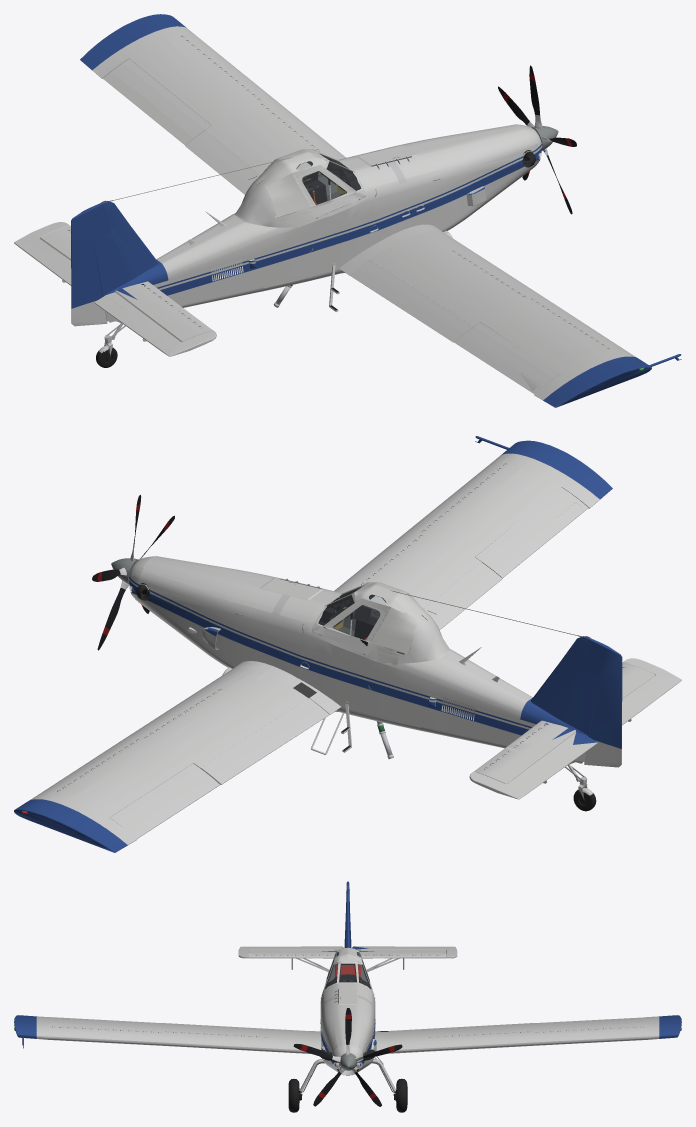
3 views of the same model, one above another, from view 1: azimuth 30°, elevation 25°; view 2: azimuth 150°, elevation 25°; view 3: azimuth 270°, elevation 25° (orthographic). The views are drawn at different scales.
Visible parts, largest first — view 1: exterior, helice, cabina; view 2: exterior, helice, cabina; view 3: exterior, helice, cabina.
Boxes of the visible parts, box(x1,y1,x2,y2) form: exterior: box(14, 14, 681, 407); helice: box(498, 65, 576, 214); cabina: box(283, 159, 365, 215); exterior: box(14, 436, 681, 852); helice: box(92, 495, 174, 650); cabina: box(318, 592, 395, 650); exterior: box(14, 881, 681, 1112); helice: box(293, 1008, 402, 1106); cabina: box(325, 955, 369, 988).
Bounding box in the file's own units: 10.51 × 4.07 × 18.06.
